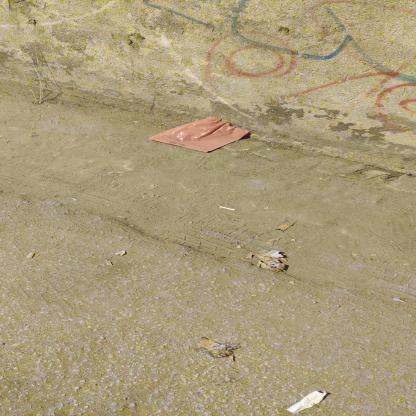plastik: (148, 116, 250, 152)
